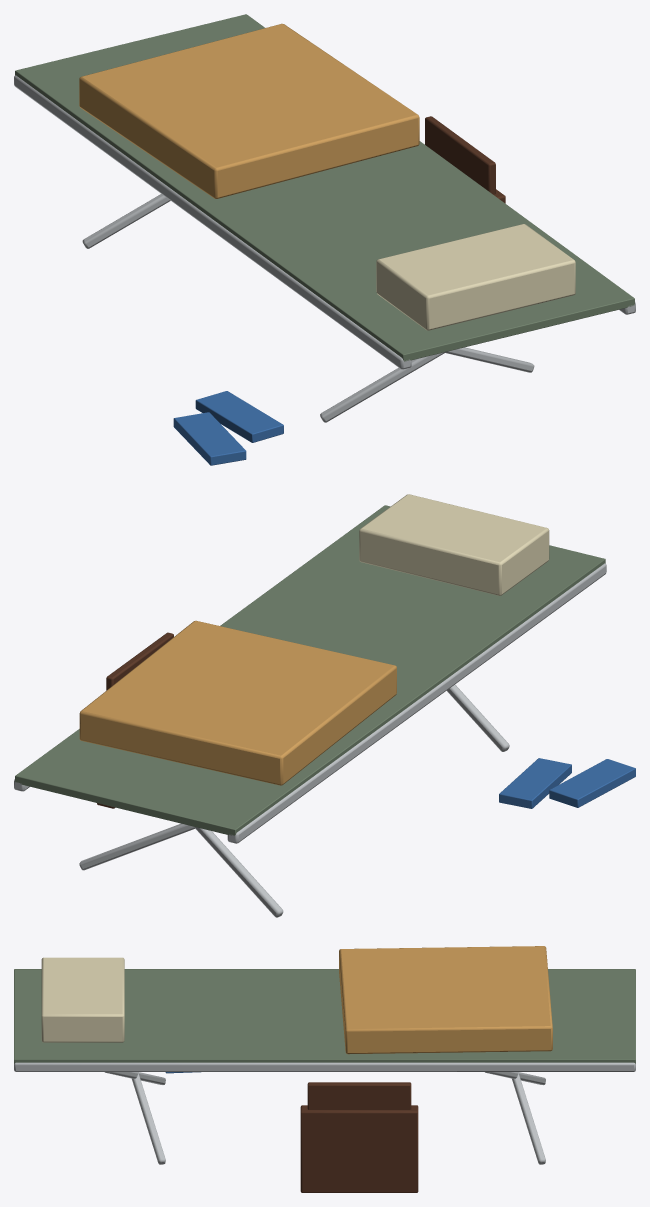
Rendered from GiuongXep_CoTam.glb.
3 renders of one model, top to bottom at view 1: azimuth 30°, elevation 25°; view 2: azimuth 150°, elevation 25°; view 3: azimuth 270°, elevation 25°, orthographic. The views are drawn at different scales.
Visible parts, largest first — view 1: GiuongXep_CoTam; view 2: GiuongXep_CoTam; view 3: GiuongXep_CoTam.
Boxes of the visible parts, x1,y1,x2,y2 form: GiuongXep_CoTam: [14, 14, 635, 465]; GiuongXep_CoTam: [14, 494, 635, 917]; GiuongXep_CoTam: [14, 946, 635, 1192].
Size of the model in its own units: 1.06 by 0.455 by 1.8.
